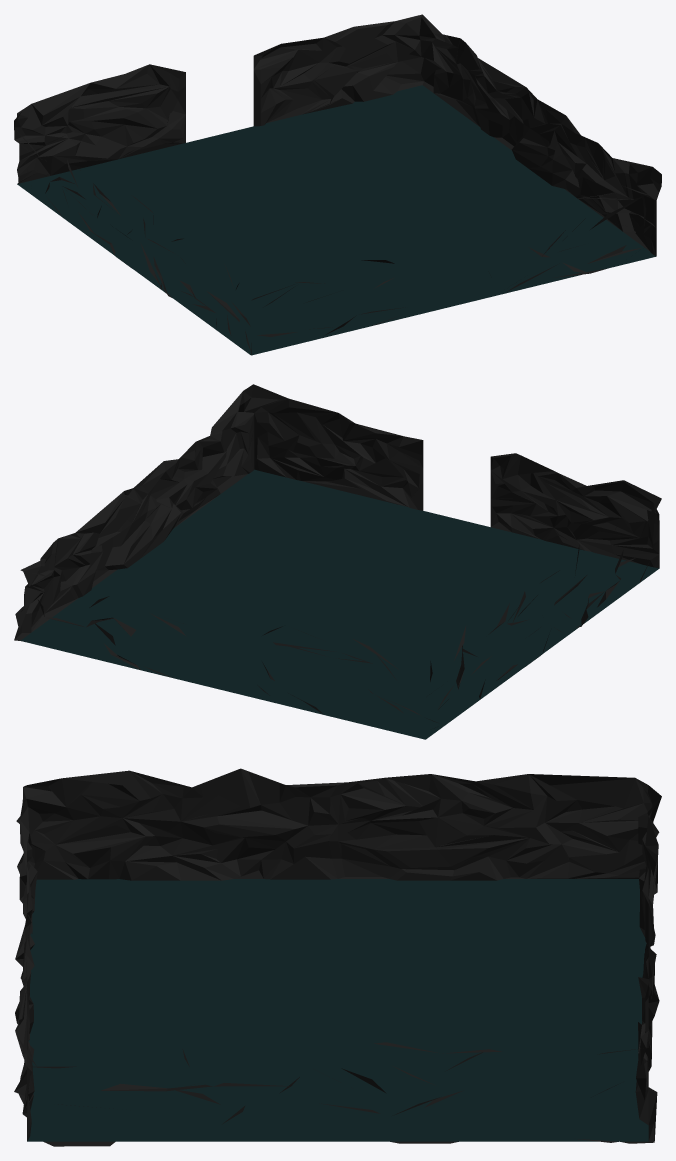
The model's file is BattleMan_Stage1.obj.
3 renders of one model, top to bottom at view 1: azimuth 30°, elevation 25°; view 2: azimuth 150°, elevation 25°; view 3: azimuth 270°, elevation 25°, orthographic. The views are drawn at different scales.
Parts seen in each view (by area): view 1: 立方体; view 2: 立方体; view 3: 立方体.
Boxes of the visible parts, x1,y1,x2,y2 form: 立方体: (14, 14, 661, 355); 立方体: (14, 384, 661, 739); 立方体: (14, 768, 661, 1146).
Bounding box in the file's own units: 633 × 119 × 625.
